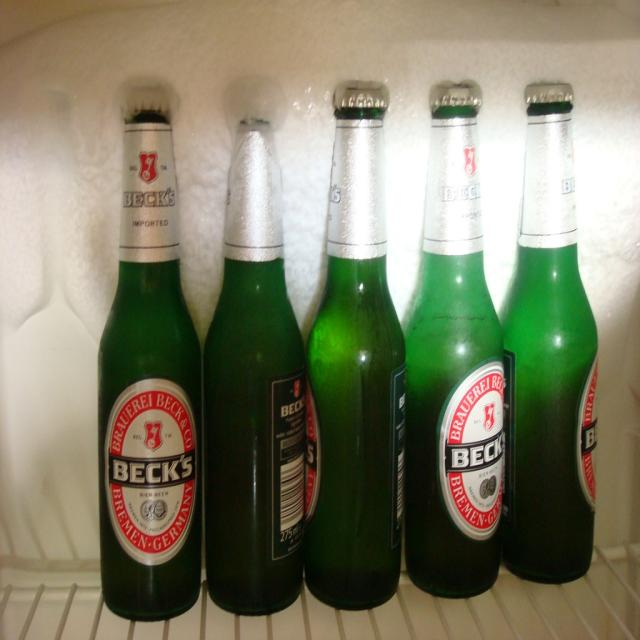becks: (103, 380, 196, 571), (439, 362, 510, 540), (574, 357, 603, 507), (299, 382, 327, 523)
